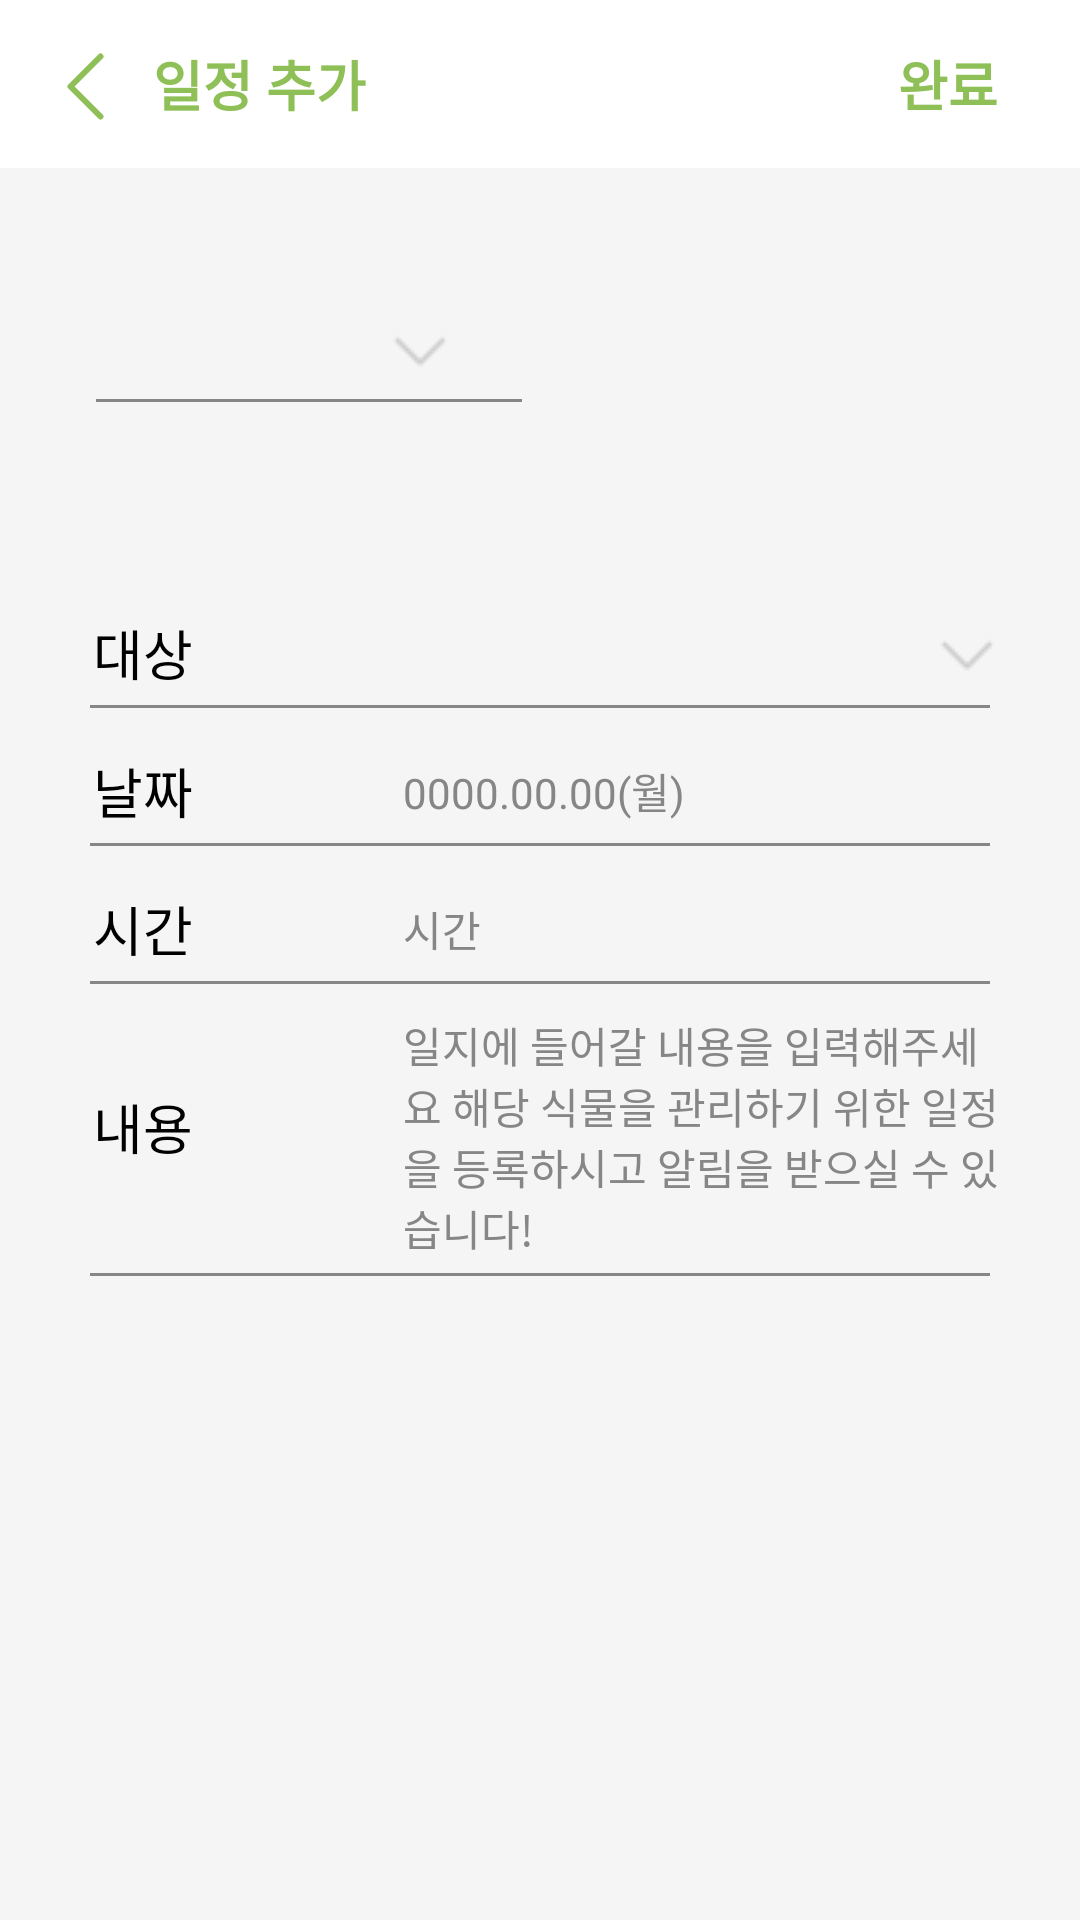

Where icons sit on this 1080x1920 app screen, as (x1, y1, x2, y2):
back: (67, 53, 104, 120)
